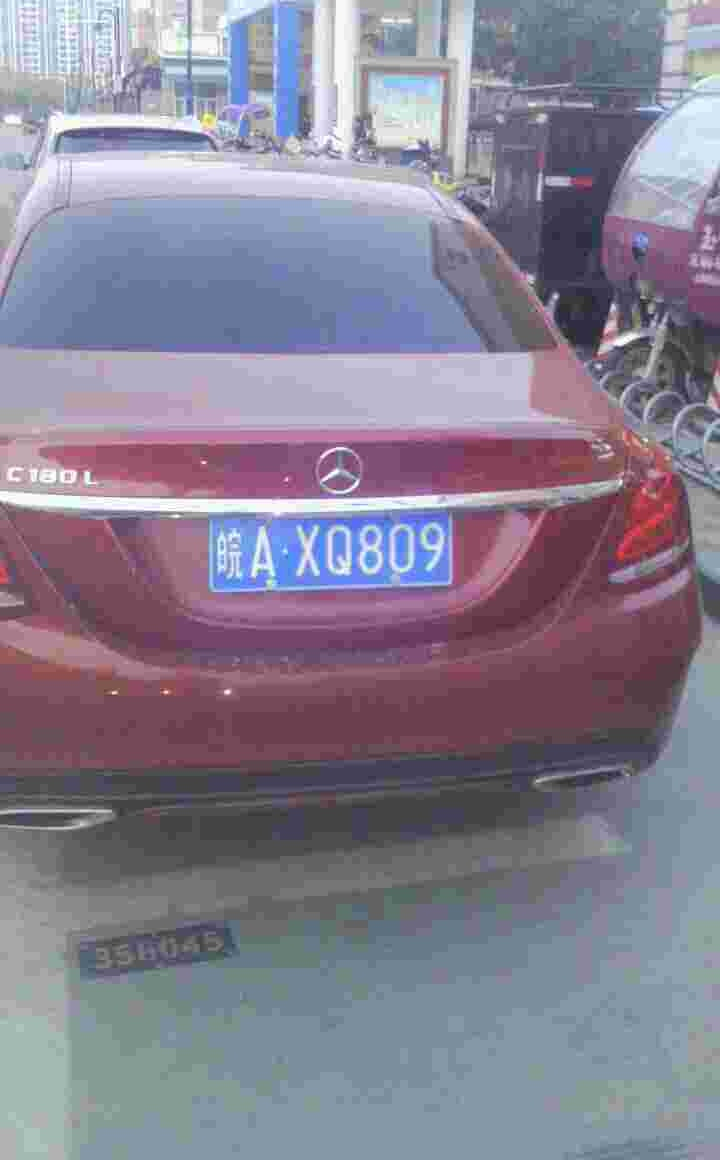license_plate: (222, 505, 450, 586)
